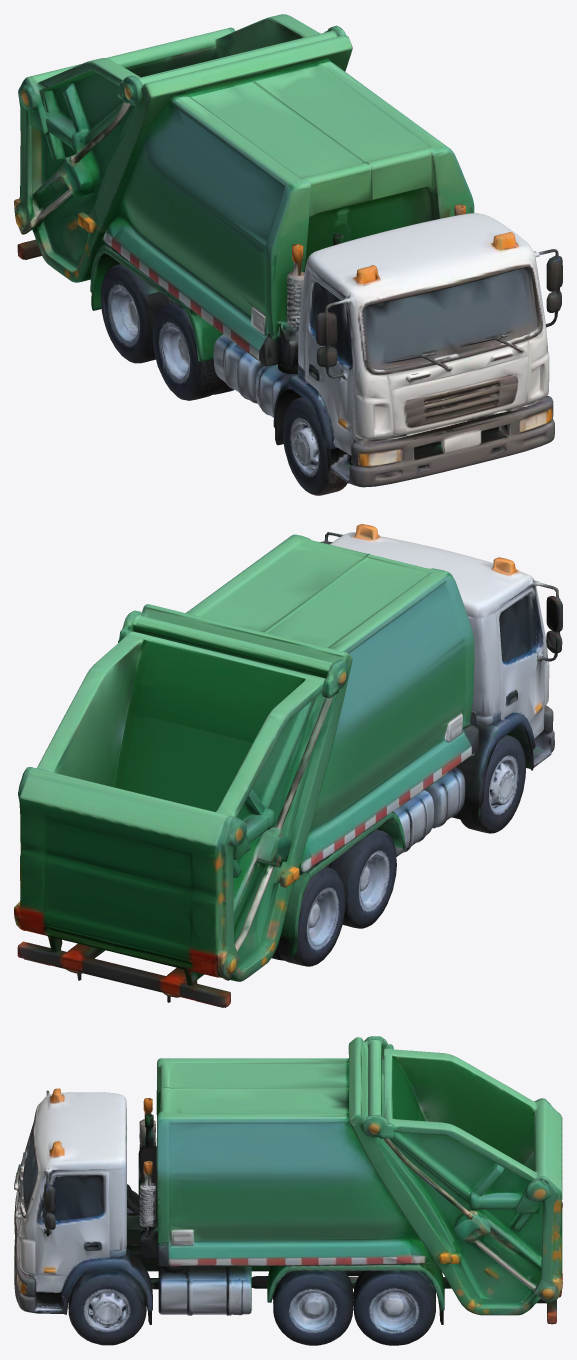
File: car.glb
3 renders of one model, top to bottom at view 1: azimuth 30°, elevation 25°; view 2: azimuth 150°, elevation 25°; view 3: azimuth 270°, elevation 25°, orthographic. The views are drawn at different scales.
Visible parts, largest first — view 1: node_0; view 2: node_0; view 3: node_0.
Boxes of the visible parts, x1,y1,x2,y2 form: node_0: [14, 14, 562, 495]; node_0: [14, 524, 562, 1007]; node_0: [14, 1036, 562, 1345].
Bounding box in the file's own units: 0.4491 × 0.5127 × 1.09.
Materials: 1 (1 with a texture image).
